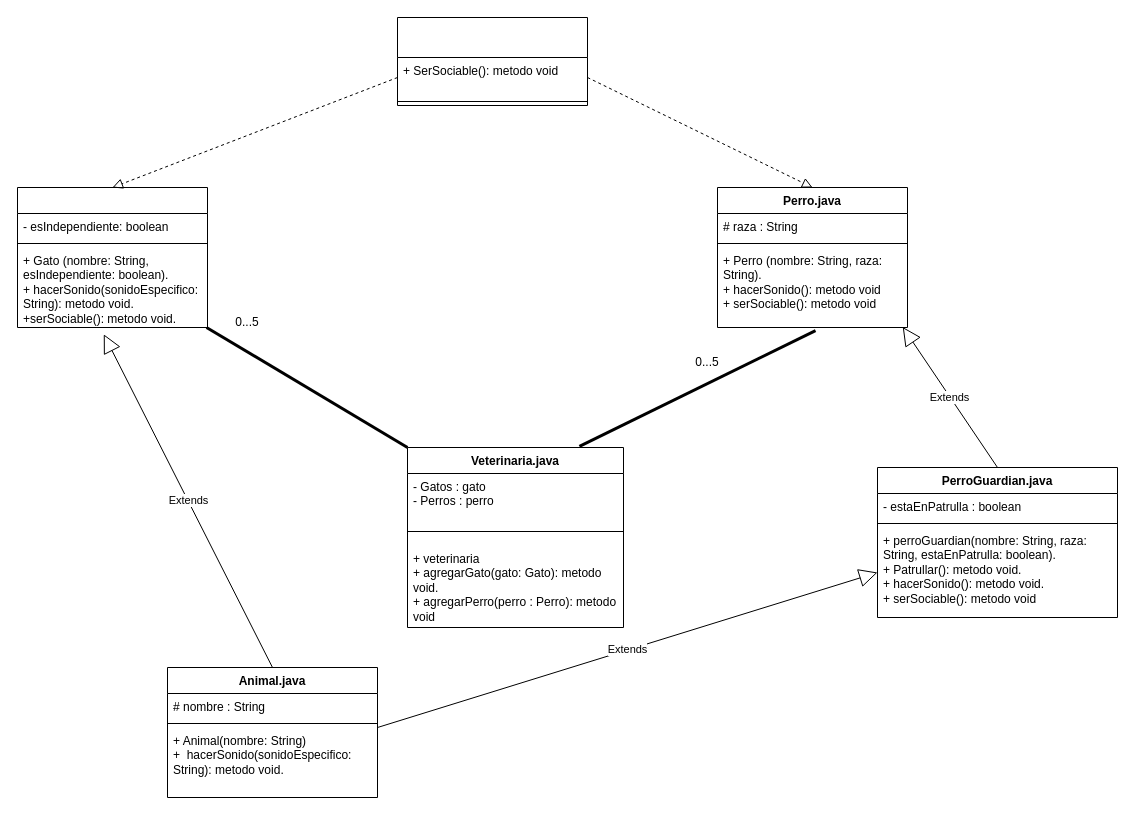
Some shapes in this 1135 by 818 pixel diagram are drawn without their labels. Here are the shapes that lost their labels. From the top down, the box of each, then its label:
(396, 16, 588, 106): <<interface >> Domesticable
(16, 186, 208, 328): Gato.java
